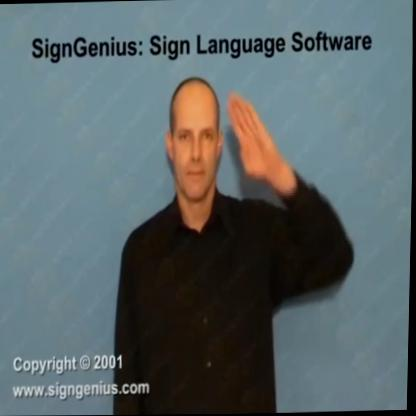Hello: (165, 66, 310, 243)
